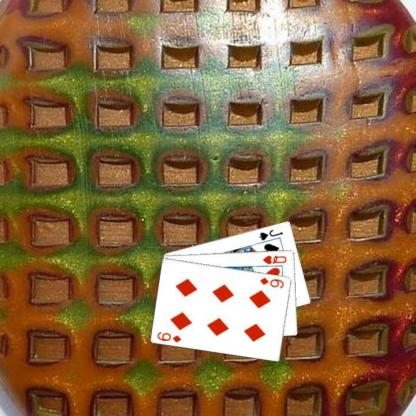6D: (155, 329, 182, 344), (258, 275, 285, 289)
JS: (256, 226, 284, 242)
QH: (260, 253, 288, 265)
